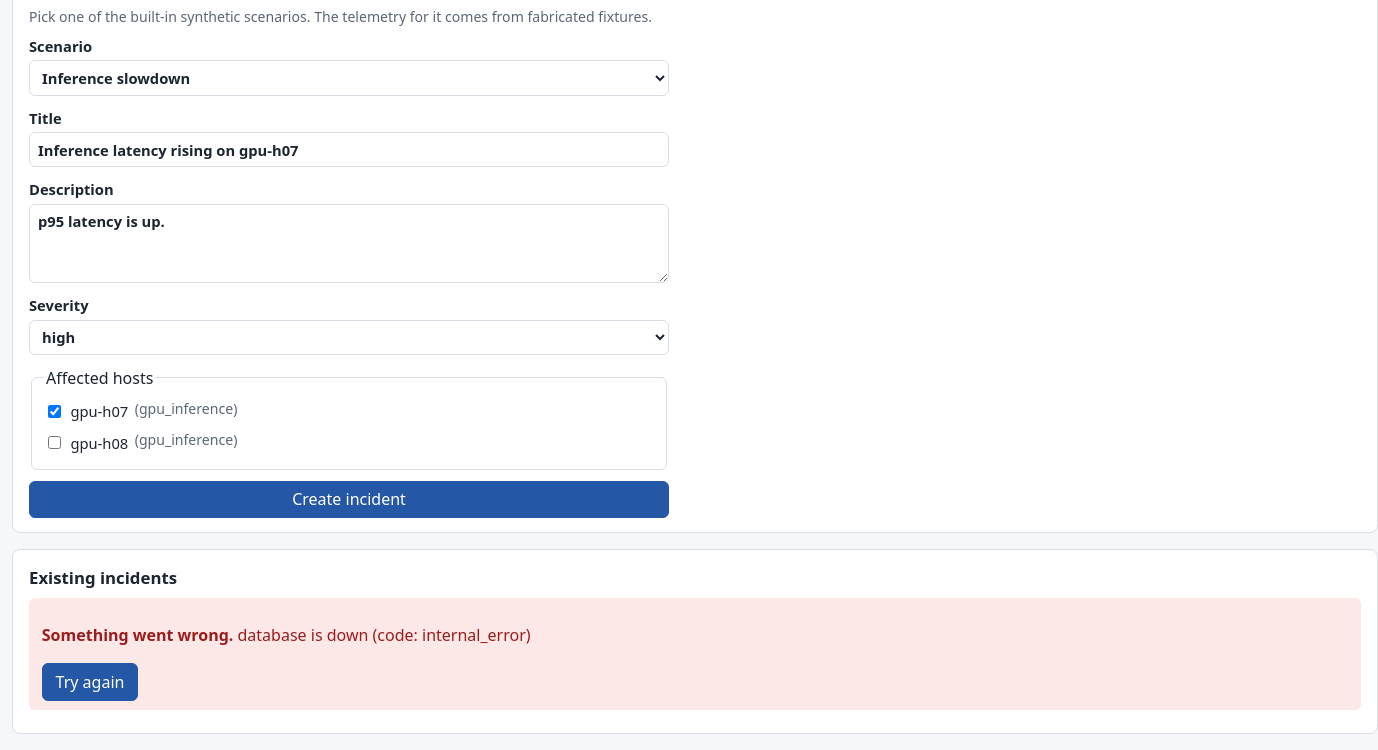
Test: IncidentsPage › shows an error with a retry when the list cannot be loaded
This screenshot has width=1378, height=750.
(page scrolled)
Check: the message shows "database is down", box [238,624,368,646]
Click the button "Try again": x=90, y=682 [42,664,138,701]
(page scrolled)
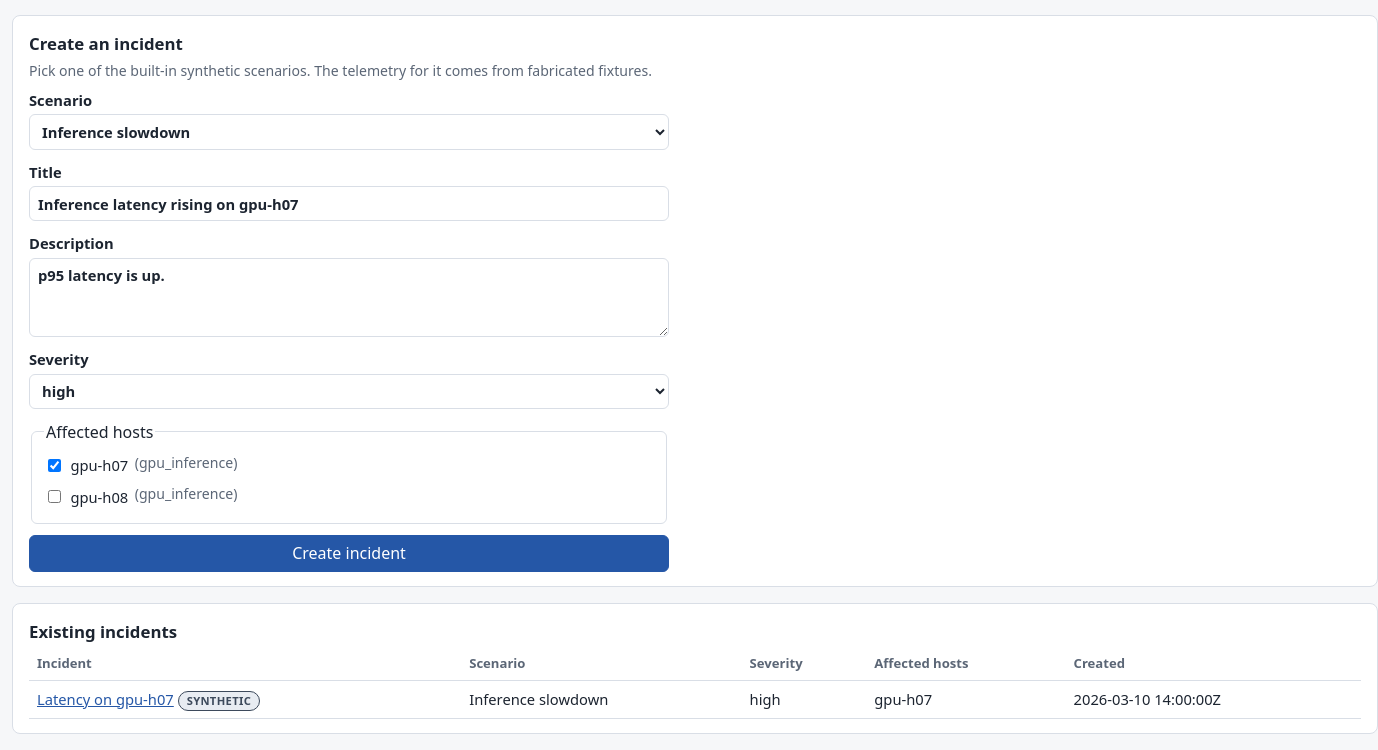
Check: the link "Latency on gpu-h07" is shown, box [37,689,174,709]
